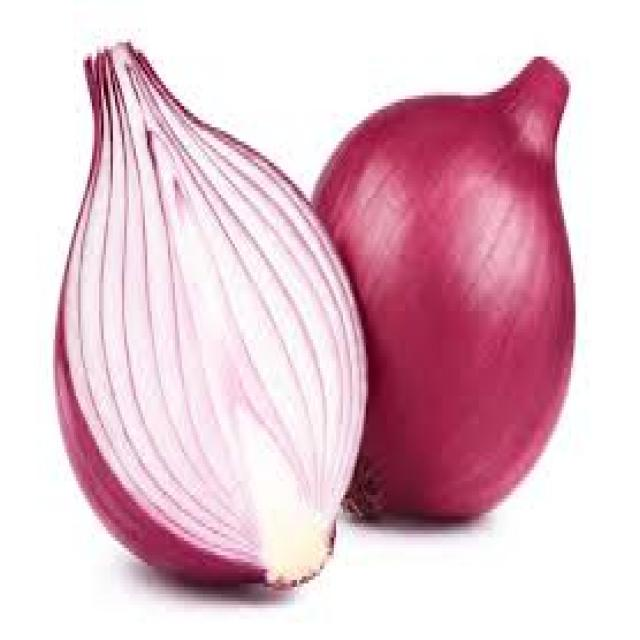onion: (53, 42, 371, 594), (311, 57, 580, 520)
